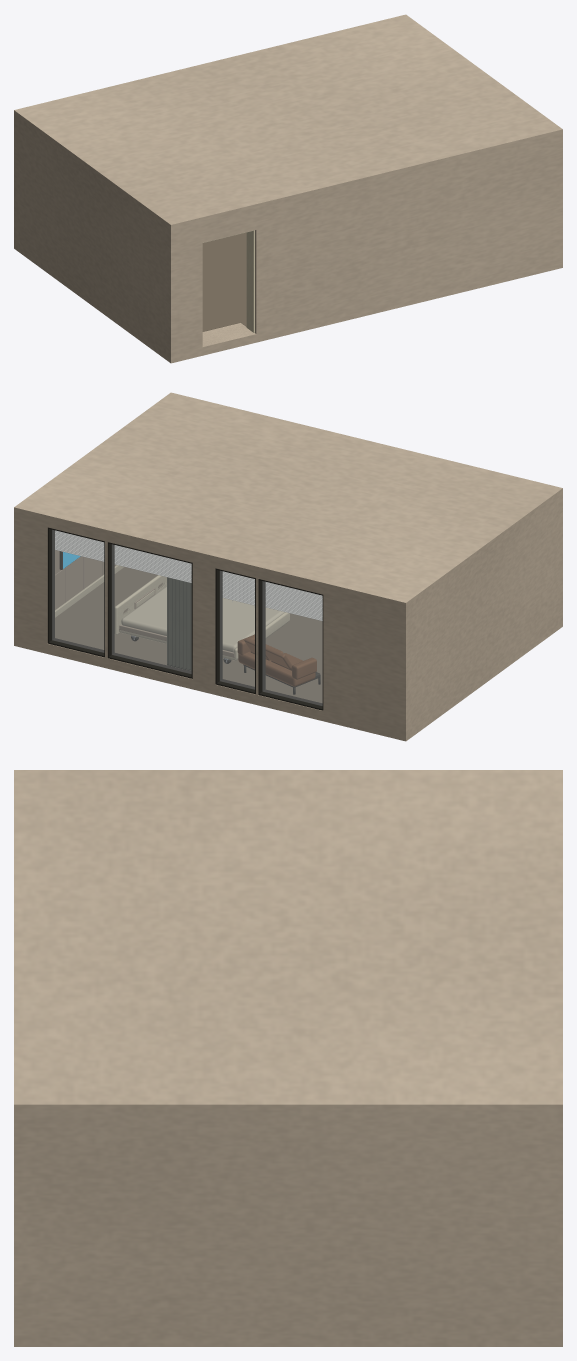
Rendered from hospital_complete_interior.glb.
3 renders of one model, top to bottom at view 1: azimuth 30°, elevation 25°; view 2: azimuth 150°, elevation 25°; view 3: azimuth 270°, elevation 25°, orthographic. The views are drawn at different scales.
Visible parts, largest first — view 1: ROOM_SHELL__joined_solid__hidden_extents_inferred, Entrance • jamb, full wall depth.001; view 2: ROOM_SHELL__joined_solid__hidden_extents_inferred, Window_3__closed_glass_solid, Window_1__closed_glass_solid, Window_4__closed_glass_solid, Window_2__closed_glass_solid, Bed • mattress and sheet, Curtain • rebuilt uniform eight-fold drape, Window_4__jamb_with_reveal.001, Window_2__jamb_with_reveal.001, Window_3__jamb_with_reveal.001, Window_1__jamb_with_reveal.001, Bed • observed endboard, consistent width (+4 smaller); view 3: ROOM_SHELL__joined_solid__hidden_extents_inferred.
Part boxes in pixels (x1,y1,x2,y2): ROOM_SHELL__joined_solid__hidden_extents_inferred: [14, 14, 562, 363]; Entrance • jamb, full wall depth.001: [246, 230, 254, 332]; ROOM_SHELL__joined_solid__hidden_extents_inferred: [14, 392, 562, 741]; Window_3__closed_glass_solid: [112, 544, 191, 673]; Window_1__closed_glass_solid: [262, 581, 322, 705]; Window_4__closed_glass_solid: [52, 530, 103, 652]; Window_2__closed_glass_solid: [220, 571, 254, 689]; Bed • mattress and sheet: [121, 586, 284, 652]; Curtain • rebuilt uniform eight-fold drape: [167, 577, 191, 670]; Window_4__jamb_with_reveal.001: [47, 527, 54, 643]; Window_2__jamb_with_reveal.001: [215, 568, 222, 684]; Window_3__jamb_with_reveal.001: [107, 542, 114, 657]; Window_1__jamb_with_reveal.001: [258, 579, 265, 694]; Bed • observed endboard, consistent width: [114, 575, 166, 634]; ROOM_SHELL__joined_solid__hidden_extents_inferred: [14, 770, 562, 1346].
Bounding box in the file's own units: 9.3 × 3.14 × 6.45.
20 materials, 5 textured.
